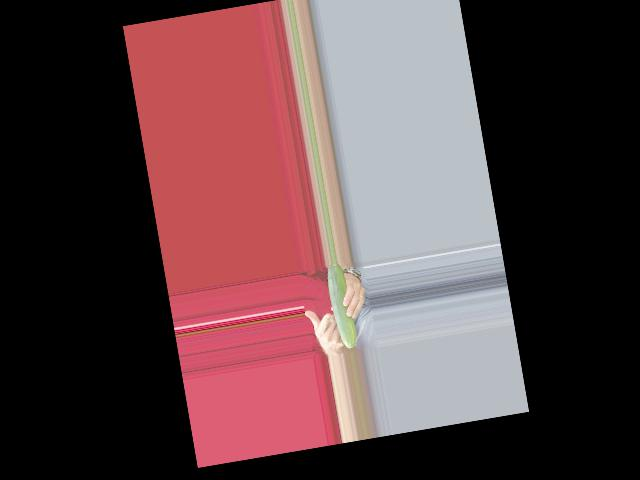cucumber: (324, 262, 359, 350)
